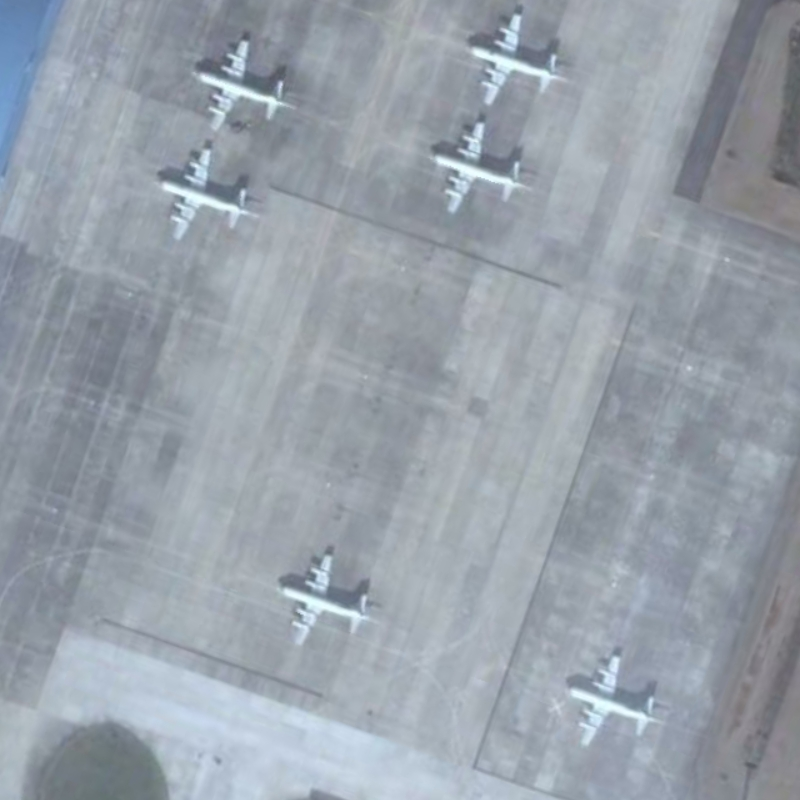A9: (266, 541, 385, 655), (420, 111, 537, 224), (557, 643, 670, 760), (459, 5, 577, 116), (183, 25, 296, 138), (148, 141, 270, 245)
